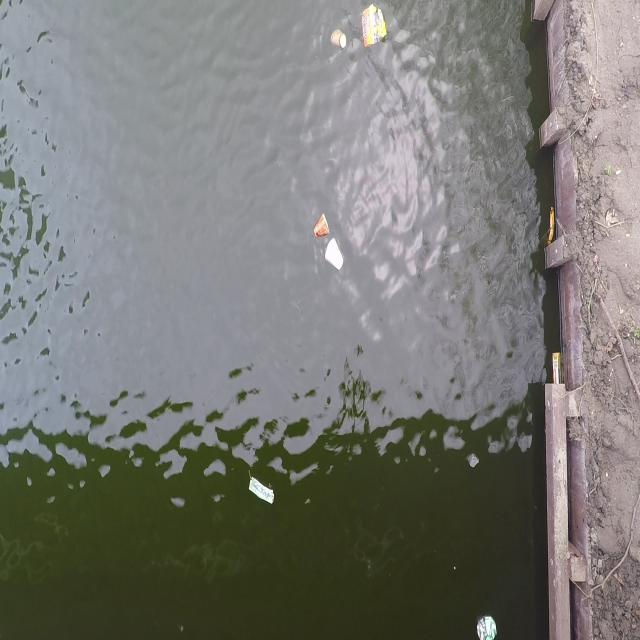Autre plastique: (358, 0, 389, 58)
Non plastique: (244, 468, 278, 511), (471, 606, 500, 640), (309, 209, 332, 248), (323, 235, 343, 277), (324, 24, 350, 53)
